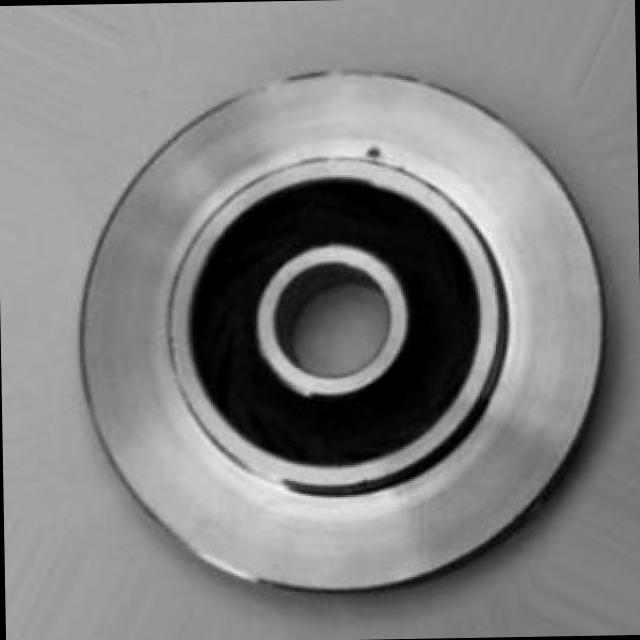Defect: (358, 138, 386, 168)
